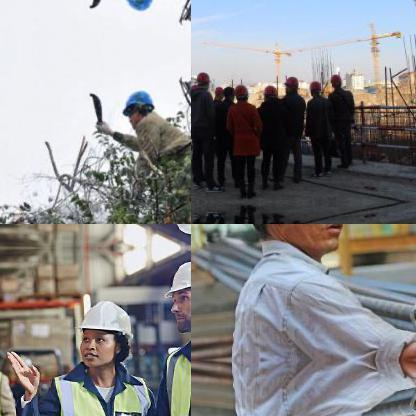Helmet: (221, 224, 367, 262), (66, 291, 132, 371), (161, 250, 190, 331), (122, 84, 154, 126), (121, 0, 155, 15), (230, 82, 247, 98), (306, 78, 322, 94), (262, 83, 276, 99), (282, 76, 298, 90), (194, 70, 208, 86), (328, 72, 342, 86), (212, 84, 224, 98)
